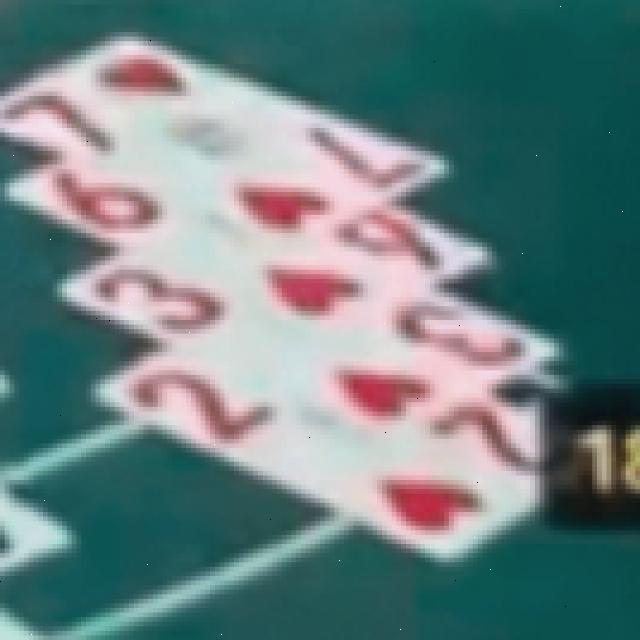Card-2: (94, 344, 626, 565)
Card-3: (60, 248, 559, 436)
Card-6: (8, 155, 491, 342)
Card-7: (1, 34, 449, 250)
